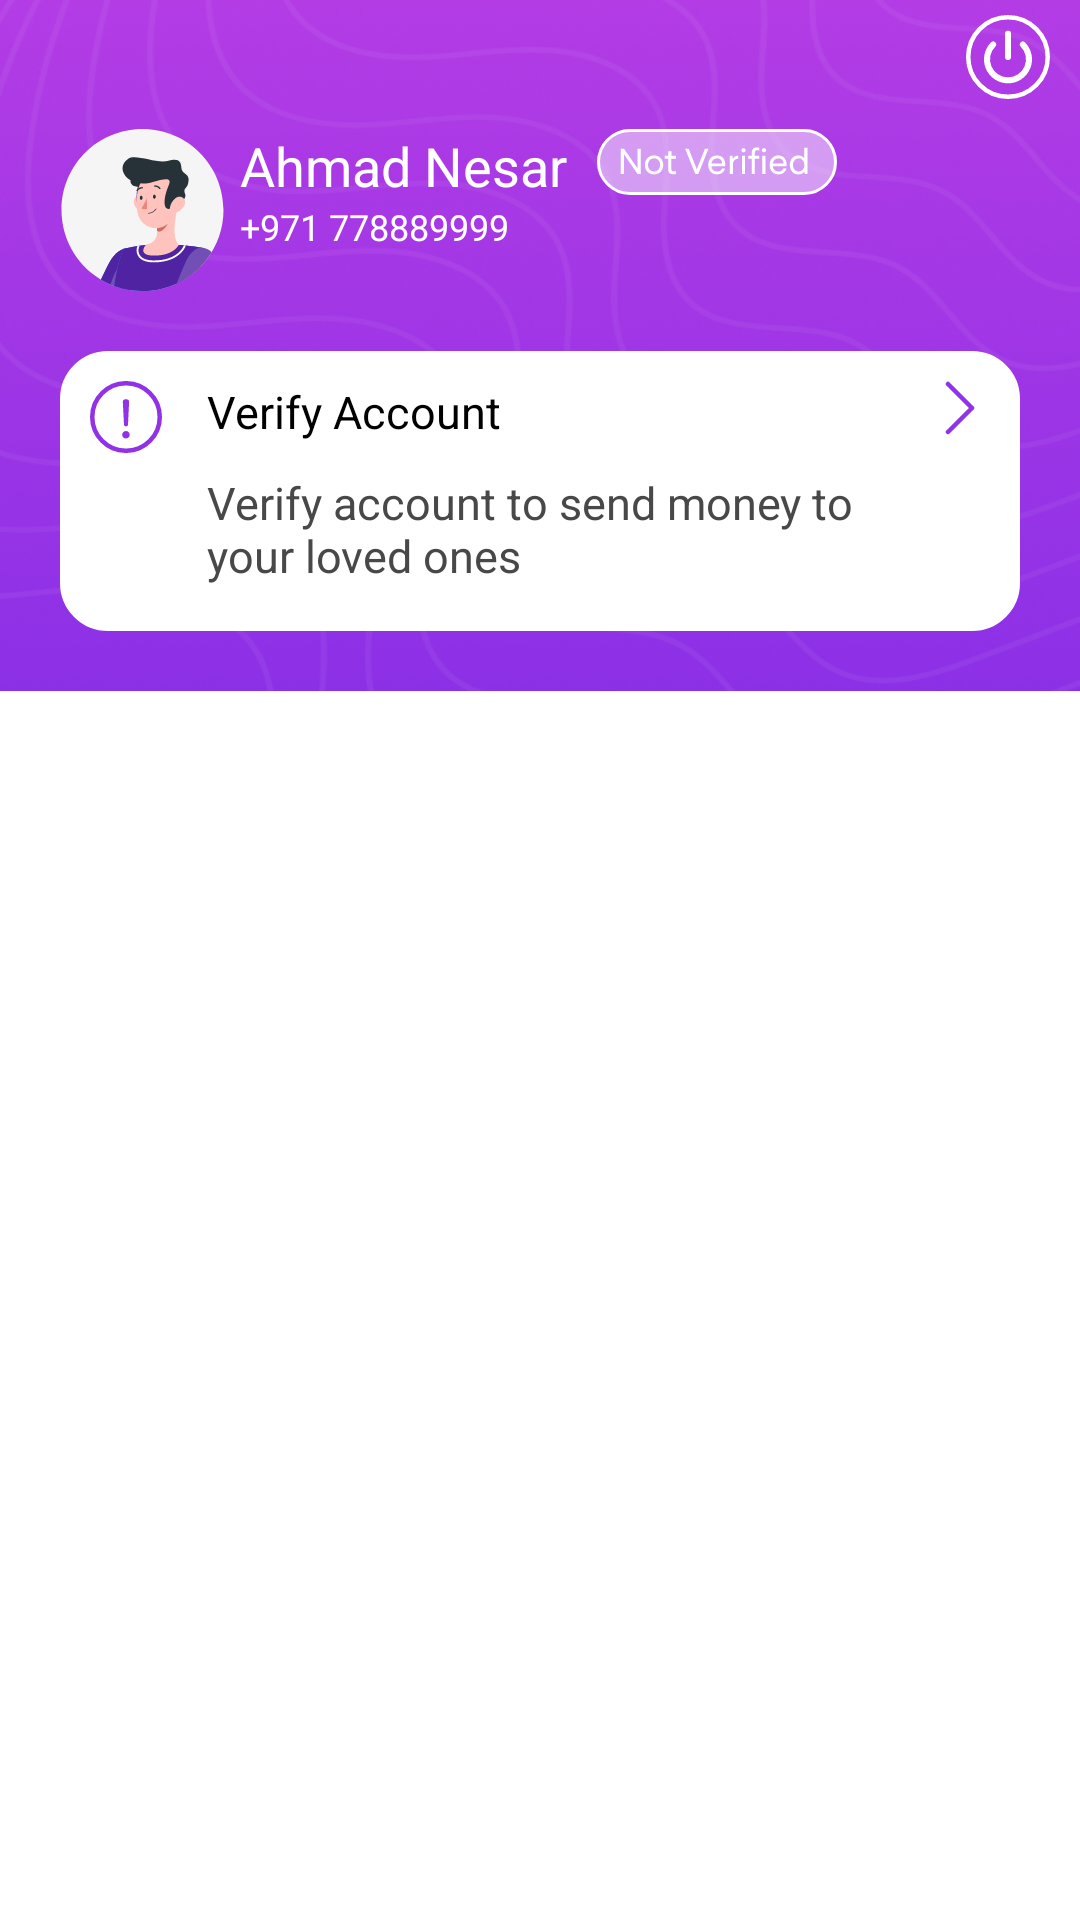

Locate icon controls on the screen. Image size 1080px×1920px, boxes as box=[x1, y1, x2, y2].
arrow: box=[945, 381, 975, 435]
